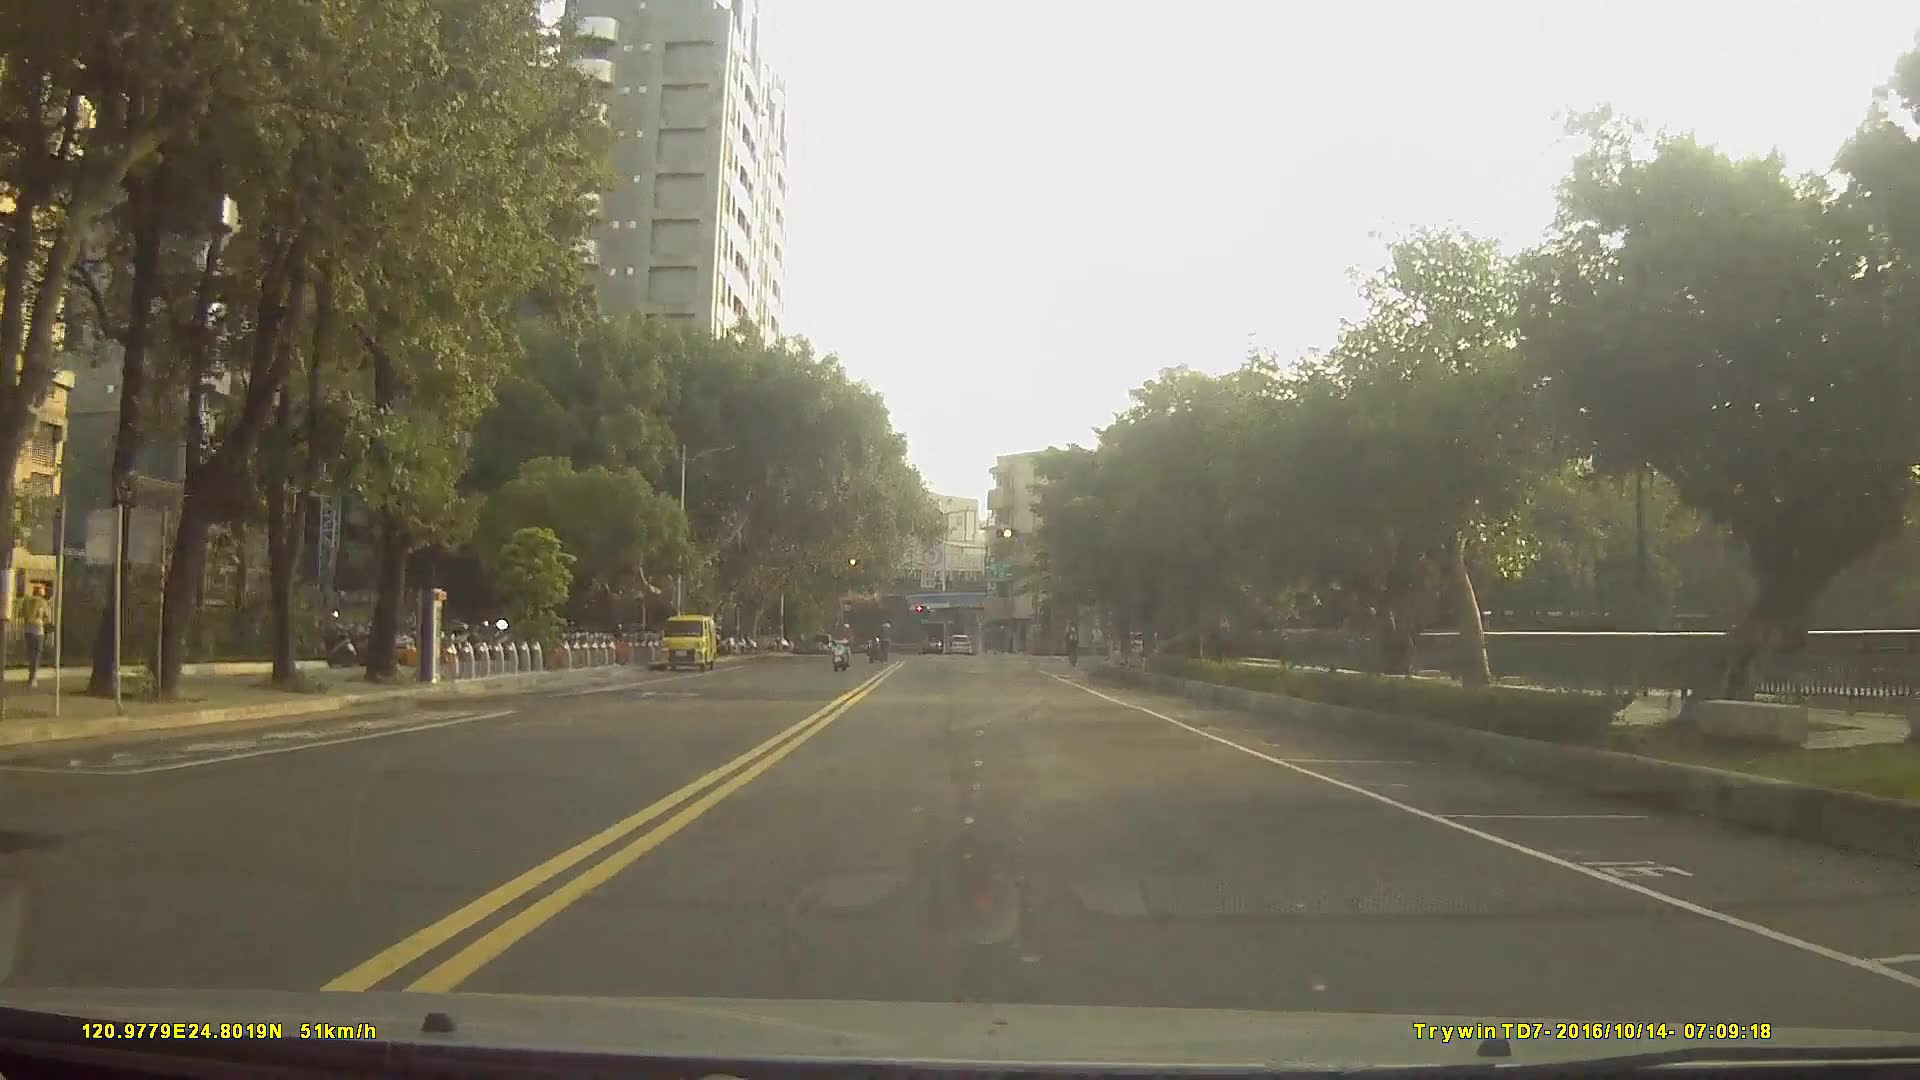pedestrian: (1086, 623, 1106, 659)
rider: (829, 619, 860, 671), (867, 617, 897, 662)
vehicle: (941, 629, 973, 653)
